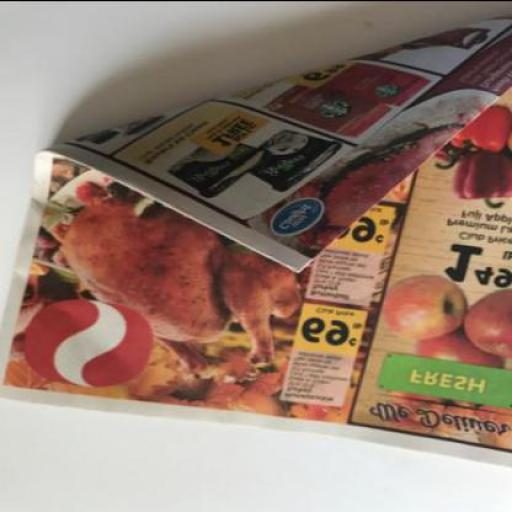paper: (1, 16, 511, 468)
